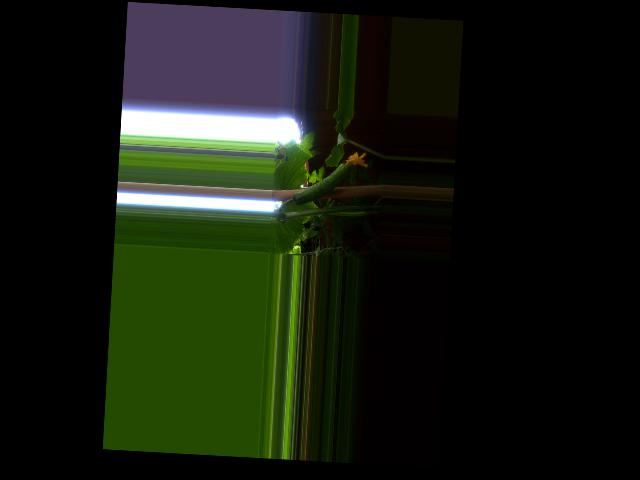cucumber: (292, 147, 369, 208)
